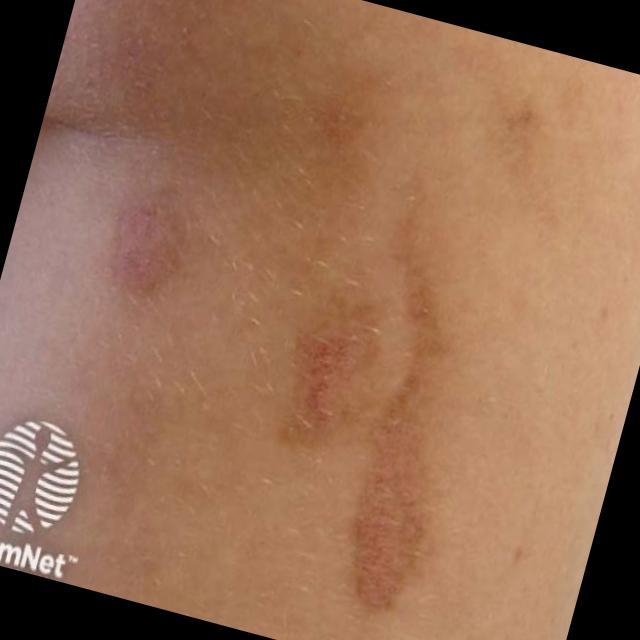Eczema: (82, 27, 452, 603)
